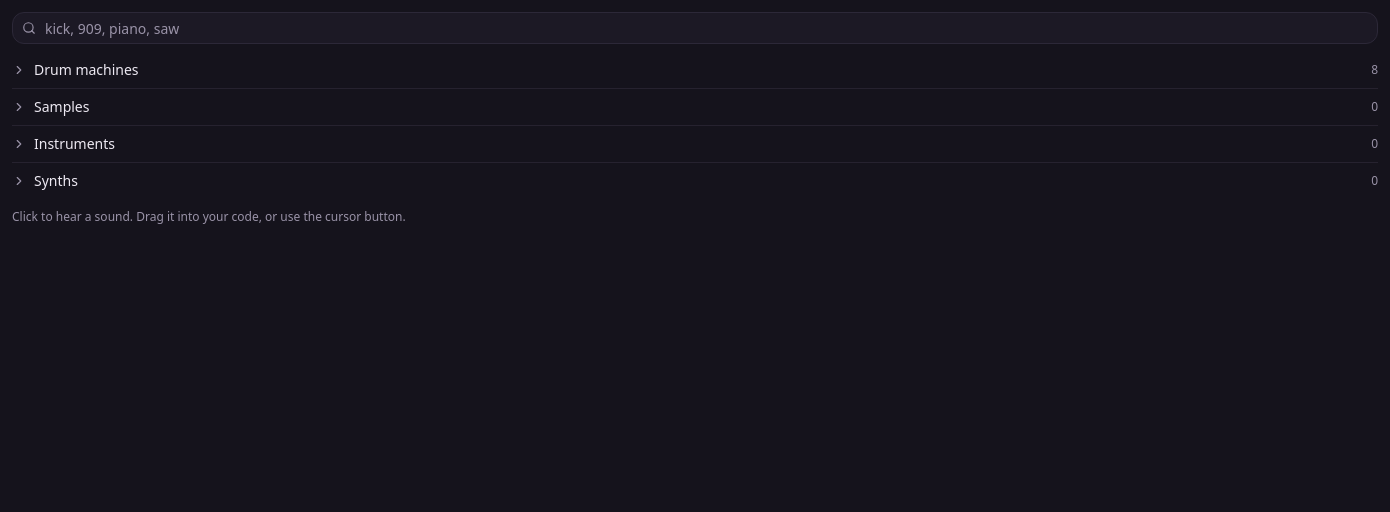
Test case: SoundsSection › names the matched parts on each closed machine when a search hits many machines
Expected: the button "M0" is not shown
Type "kick" into the search field named "Search sounds". click: (695, 28)
box: [12,12,1378,44]
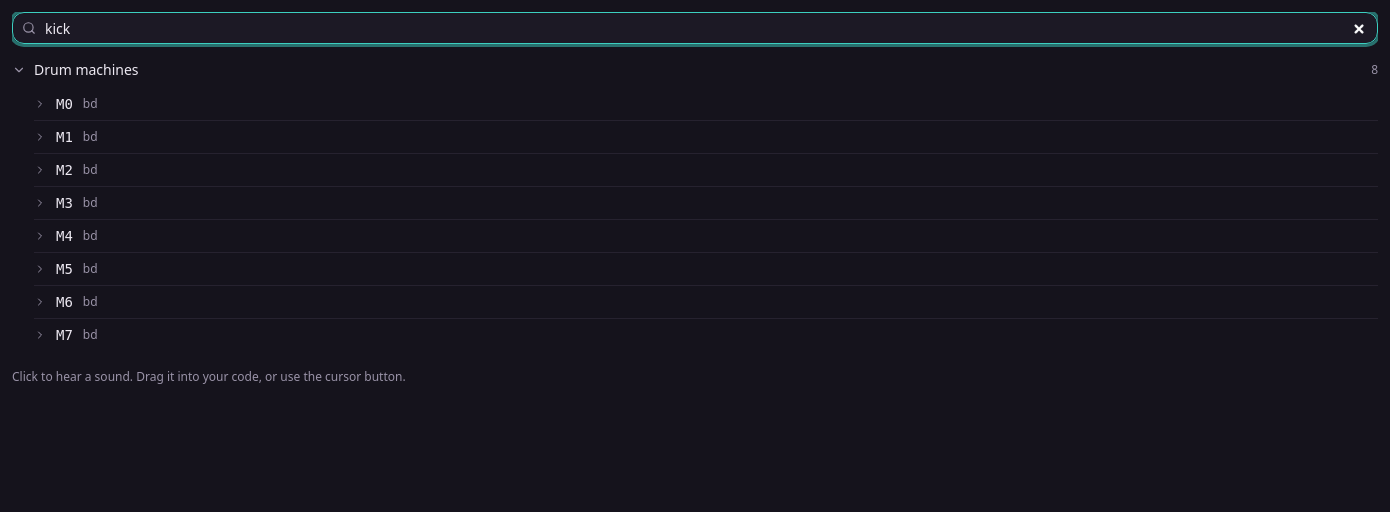
Clear the search field named "Search sounds". click: (695, 28)
box: [12,12,1378,44]
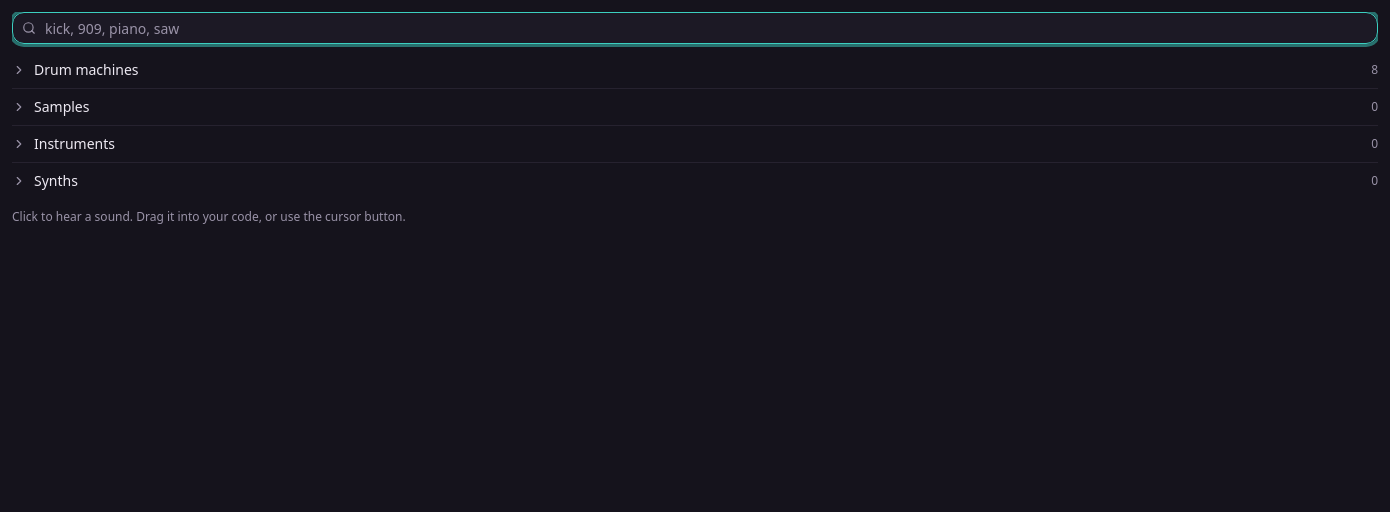
Click the button with aria-label "Drum machines, 8". click: (86, 70)
box: [12,52,1378,88]
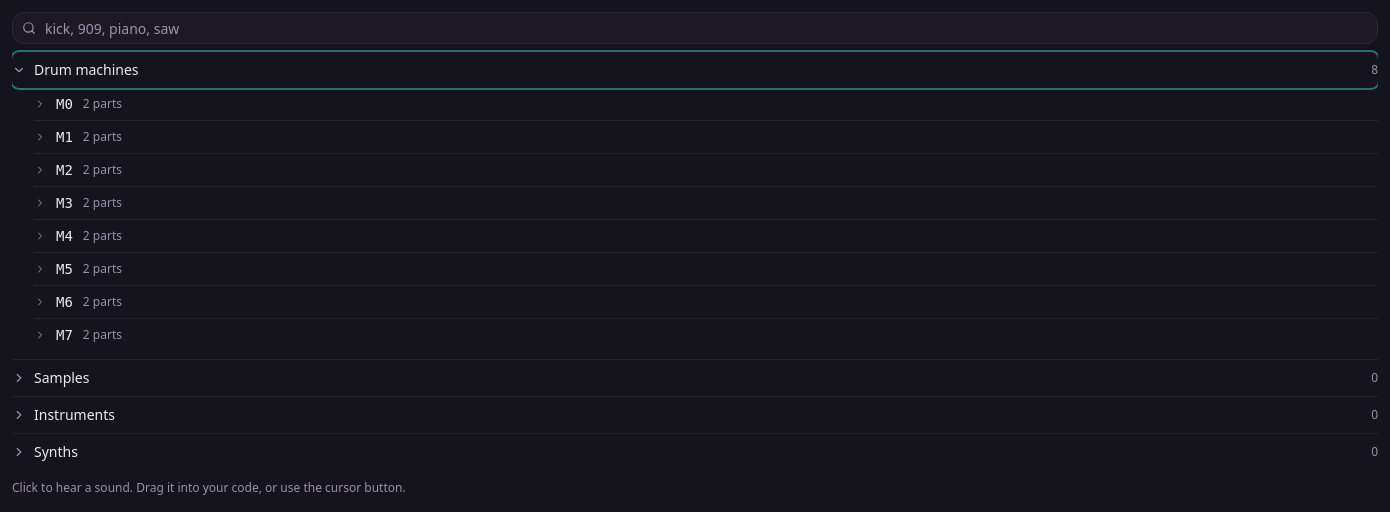
Expected: the button with aria-label "M0, 2 parts" is shown, [34,88,1378,120]
